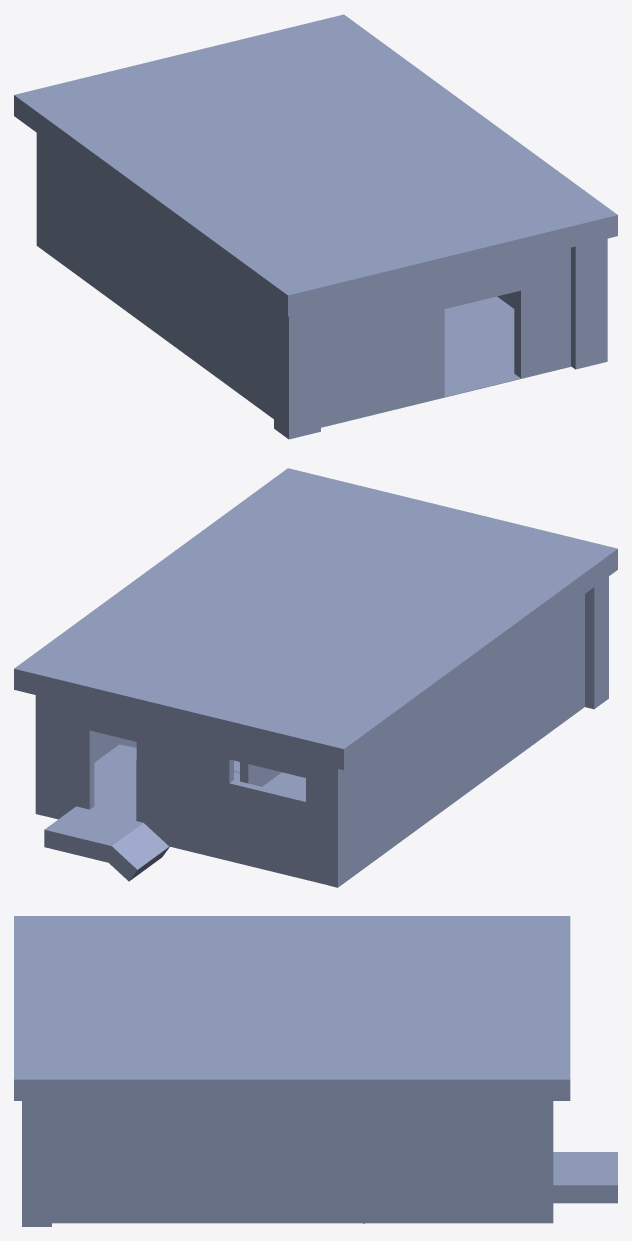
File: StoreFront_collision.fbx
The picture shows the model from 3 angles, top to bottom: view 1: azimuth 30°, elevation 25°; view 2: azimuth 150°, elevation 25°; view 3: azimuth 270°, elevation 25°; orthographic projection.
Parts seen in each view (by area): view 1: StoreFront_collision; view 2: StoreFront_collision; view 3: StoreFront_collision.
Part boxes in pixels (x1,y1,x2,y2): StoreFront_collision: (14, 14, 617, 439); StoreFront_collision: (14, 468, 617, 887); StoreFront_collision: (14, 916, 617, 1226).
Size of the model in its own units: 1093 by 512 by 1706.
